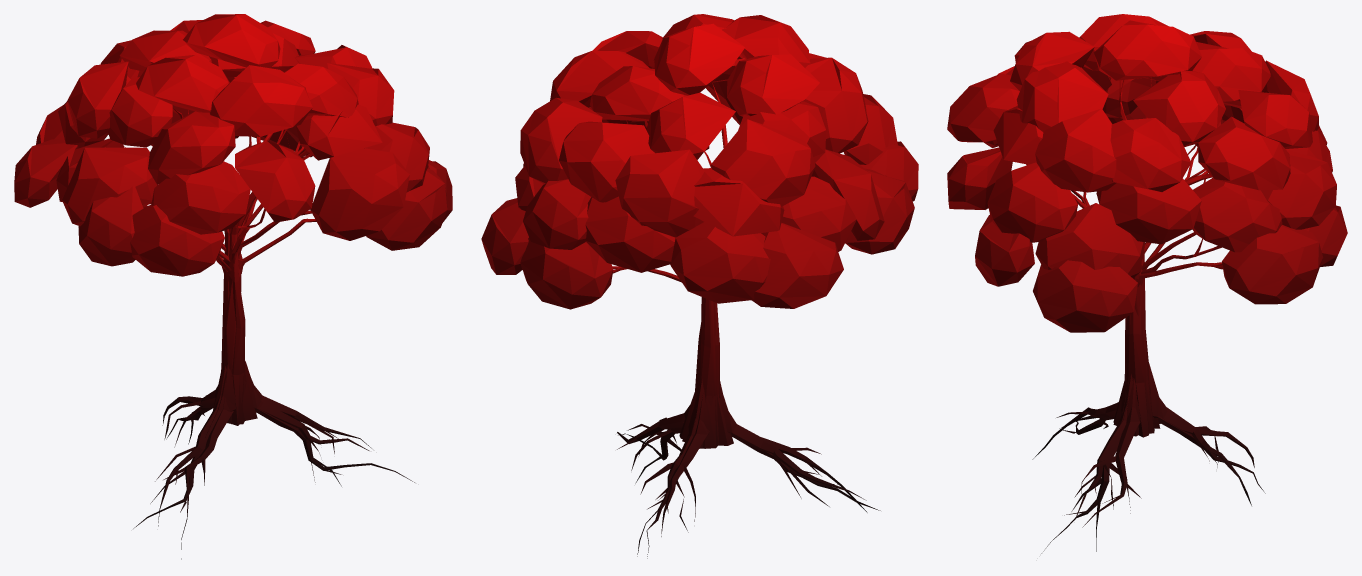
File: TreeMahogany09.fbx
The picture shows the model from 3 angles, left to right: view 1: azimuth 30°, elevation 25°; view 2: azimuth 150°, elevation 25°; view 3: azimuth 270°, elevation 25°; orthographic projection. The views are drawn at different scales.
Visible parts, largest first — view 1: TreeMahogany09_LOD0; view 2: TreeMahogany09_LOD0; view 3: TreeMahogany09_LOD0.
Part boxes in pixels (bbox=[...]): TreeMahogany09_LOD0: bbox=[14, 14, 452, 559]; TreeMahogany09_LOD0: bbox=[481, 14, 918, 558]; TreeMahogany09_LOD0: bbox=[947, 14, 1347, 553].
Size of what is drawn, in the model's own units: 2041 by 2609 by 1929.
